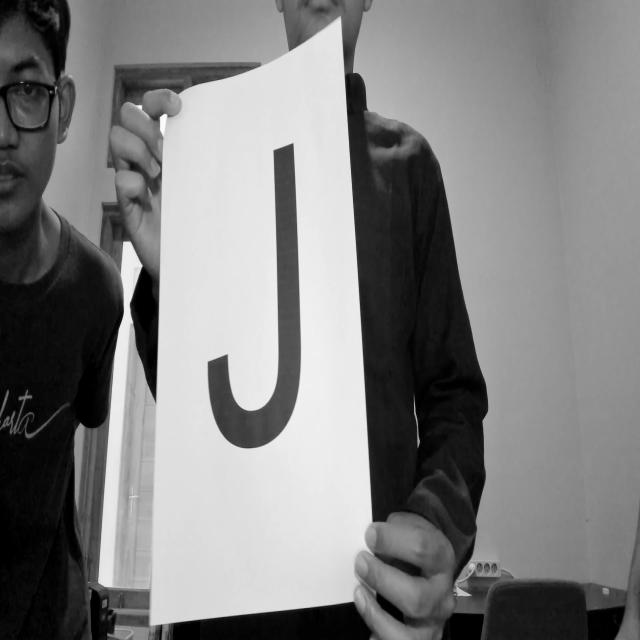j: (201, 133, 315, 474)
